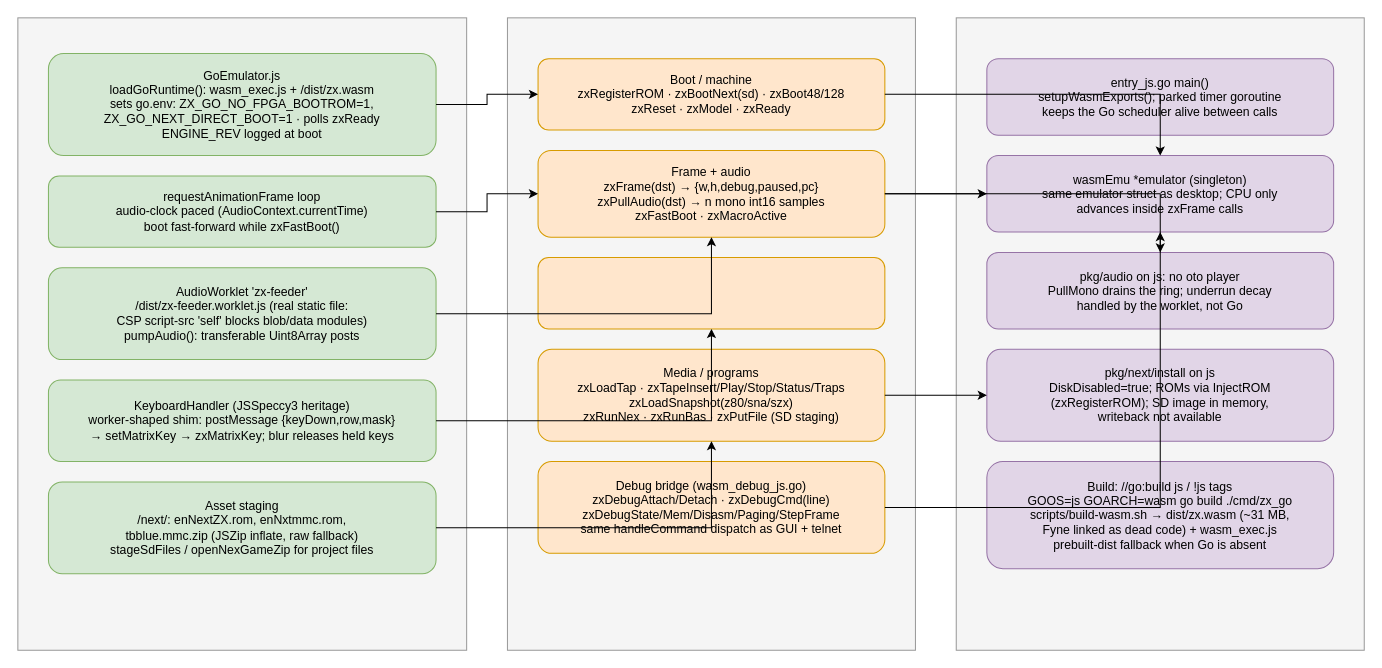
The diagram is 1382 pixels wide and 668 high, and some of its shapes have lost their labels. Here are the shapes that lost their labels. From the top down, the box of each, then its label:
(537, 257, 885, 329): Input zxMatrixKey(row,mask,down) · zxType(rune) zxKeyName(name,down,shift)
(17, 17, 467, 650): Page (packages/emulator — @zxplay/emulator)
(506, 17, 915, 650): wasm exports (cmd/zx_go/wasm_js.go — js.FuncOf globals)
(955, 17, 1364, 650): Go core (single wasm module, MAIN thread)
